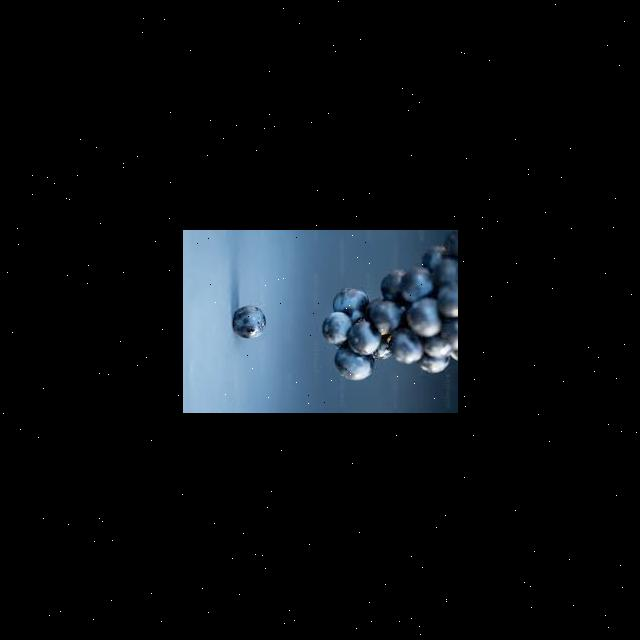grape: (322, 230, 458, 380)
